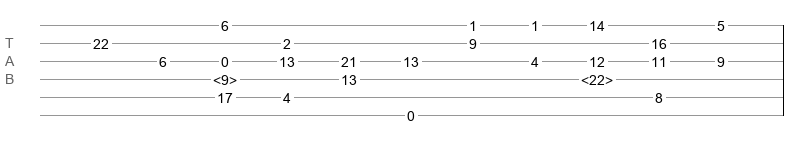0: (221, 54, 229, 64), (407, 108, 415, 118)
1: (469, 18, 477, 28), (531, 18, 539, 28)
11: (651, 54, 667, 64)
12: (589, 54, 605, 64)
13: (279, 54, 295, 64), (341, 72, 357, 82), (403, 54, 419, 64)
14: (589, 18, 605, 28)
16: (651, 36, 667, 46)
17: (217, 90, 233, 100)
2: (283, 36, 291, 46)
21: (341, 54, 357, 64)
22: (93, 36, 109, 46)
4: (283, 90, 291, 100), (531, 54, 539, 64)
5: (717, 18, 725, 28)
6: (159, 54, 167, 64), (221, 18, 229, 28)
8: (655, 90, 663, 100)
9: (469, 36, 477, 46), (717, 54, 725, 64)
harmonic: (581, 72, 613, 82), (213, 72, 237, 82)
